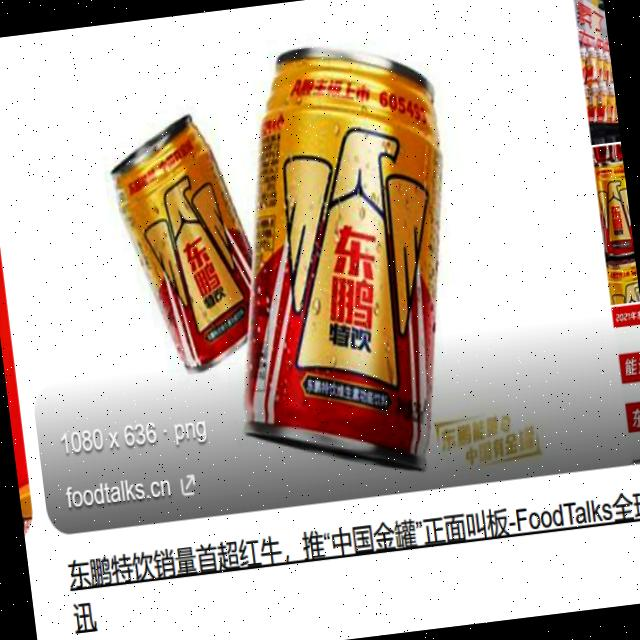dongpeng_special: (271, 108, 453, 396), (136, 175, 243, 328)
